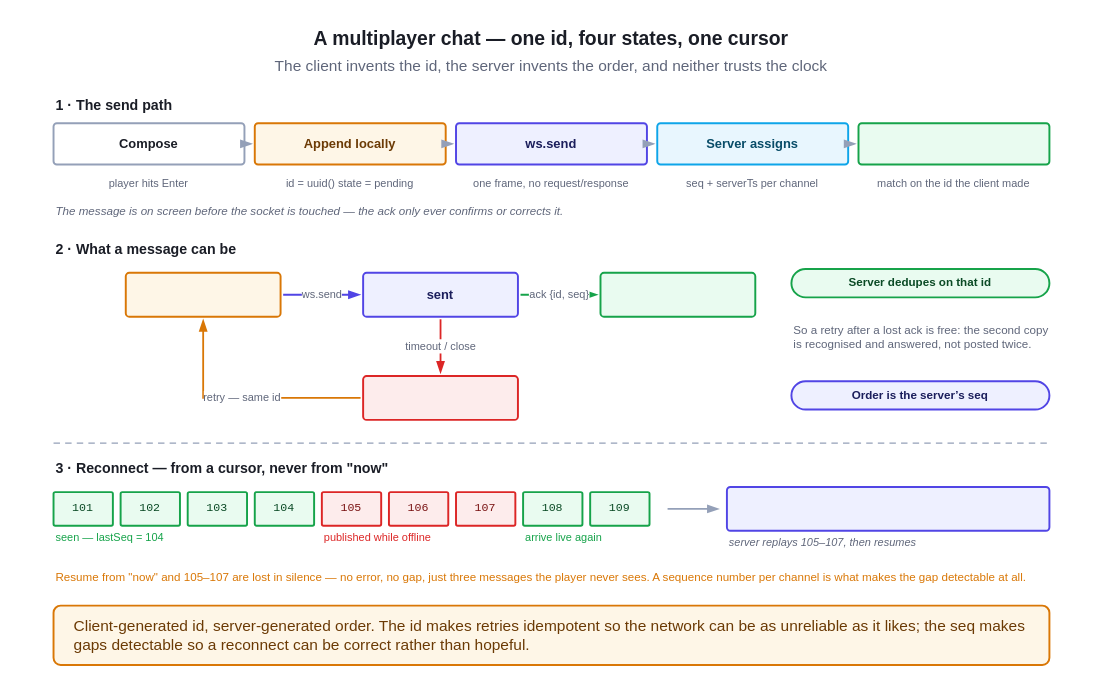
Image size: 1102x688. Some labels were removed from this diagram. The centre of each missing label's shape, as x and y in pixels:
"Ack → reconcile" belongs at point 953,143.
"acked" belongs at point 677,294.
"failed" belongs at point 440,397.
"pending" belongs at point 202,294.
"reconnect → subscribe(since: 104)" belongs at point 887,508.
